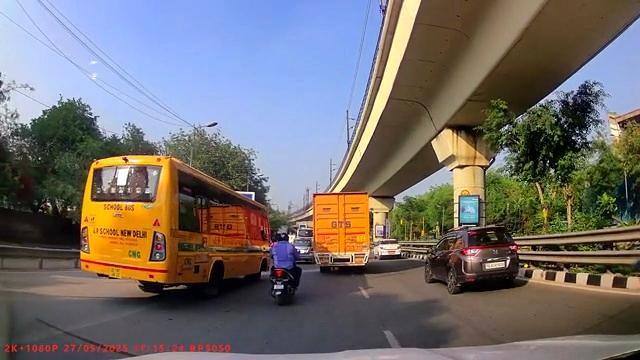motorcycle_with_helmet: (269, 233, 303, 307)
